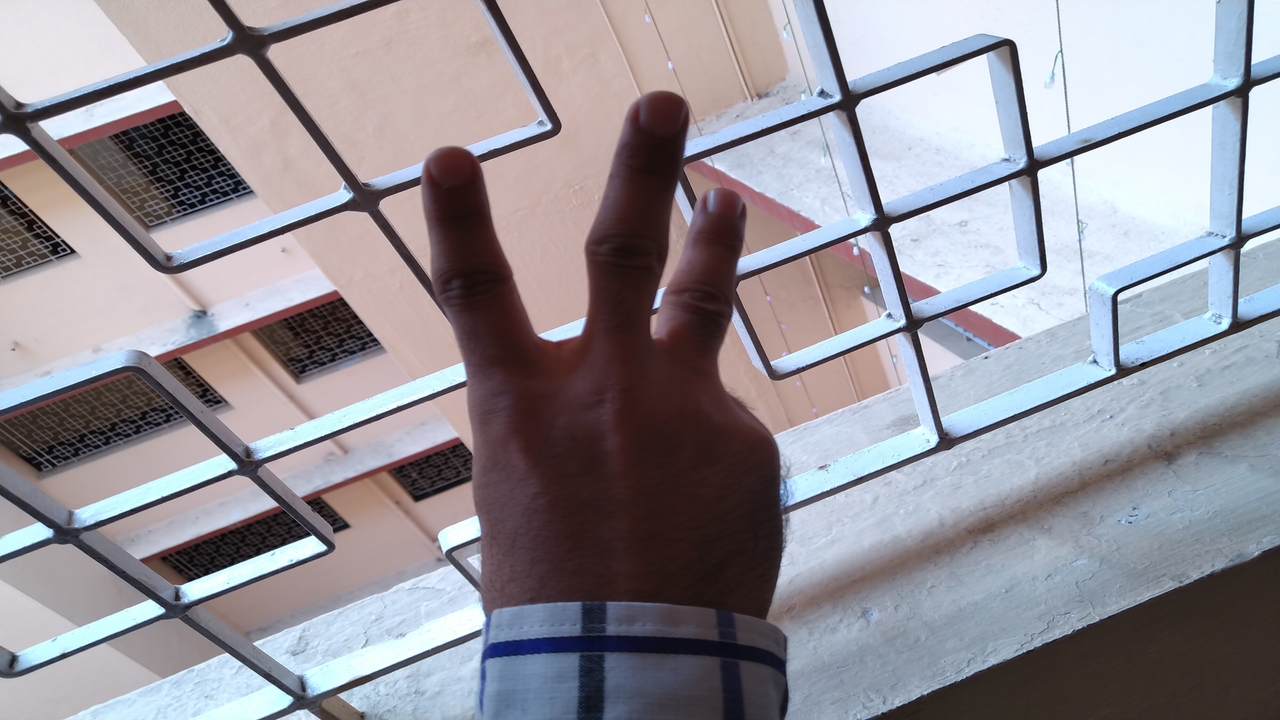fingertip: (614, 86, 694, 150), (414, 136, 480, 202), (688, 182, 752, 244)
